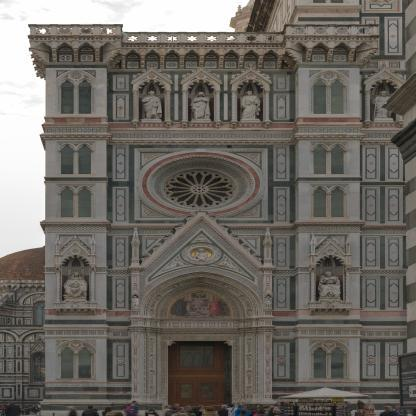Balcony: (28, 24, 380, 43)
Building Outline: (27, 0, 405, 415)
Cornice: (139, 211, 264, 269), (179, 64, 223, 90), (363, 63, 406, 89), (130, 64, 173, 90), (229, 64, 272, 90), (59, 235, 91, 262), (315, 239, 346, 262), (309, 70, 349, 85), (56, 70, 96, 85), (310, 340, 348, 353), (57, 340, 95, 353), (58, 185, 94, 192), (311, 143, 347, 150), (311, 185, 347, 192), (58, 143, 94, 150)
Deco: (140, 217, 264, 305), (135, 148, 267, 220), (168, 291, 231, 317), (372, 91, 397, 122), (317, 270, 342, 300), (308, 299, 353, 315), (53, 299, 97, 315), (62, 272, 88, 299), (189, 92, 212, 122), (140, 91, 162, 122), (239, 91, 261, 122), (131, 121, 173, 128), (180, 121, 222, 128), (230, 121, 272, 128), (364, 121, 405, 128), (168, 375, 224, 378), (131, 296, 140, 309), (264, 296, 273, 309), (117, 358, 124, 364), (390, 358, 397, 363), (279, 358, 286, 363), (368, 358, 375, 363)
Door: (167, 340, 232, 416), (177, 382, 218, 416)
Facade: (45, 62, 405, 415)
Floor: (45, 234, 405, 336), (45, 138, 406, 234)
Floor Slab: (45, 229, 406, 234), (45, 133, 406, 138), (45, 48, 406, 53), (45, 332, 406, 336)
Ground Floor: (45, 336, 405, 415)
Molding: (28, 37, 378, 81), (40, 125, 415, 140), (160, 336, 241, 395), (41, 223, 406, 234), (44, 330, 407, 337), (128, 326, 276, 335)
Pillar: (37, 65, 113, 415), (293, 65, 367, 415), (260, 227, 277, 401), (127, 227, 144, 401), (308, 234, 318, 302), (344, 235, 353, 302), (54, 234, 62, 302), (89, 235, 97, 302), (398, 89, 405, 121), (165, 89, 172, 121), (215, 89, 222, 121), (364, 89, 371, 121), (264, 89, 271, 121), (230, 89, 237, 121), (181, 90, 188, 121), (132, 89, 138, 121), (326, 149, 332, 173), (326, 192, 332, 216), (73, 149, 79, 173), (327, 85, 332, 113), (74, 85, 79, 113), (326, 353, 331, 378), (73, 353, 78, 378), (73, 192, 78, 216), (310, 85, 314, 113), (57, 192, 61, 217), (310, 353, 314, 378), (57, 353, 61, 378), (344, 192, 348, 217), (310, 192, 314, 217), (91, 192, 95, 216), (344, 150, 348, 174), (310, 150, 314, 174), (91, 150, 95, 174), (57, 150, 61, 174), (344, 84, 347, 113), (91, 84, 94, 113), (58, 85, 61, 113), (344, 353, 347, 378), (91, 353, 94, 378)
Top Floor: (45, 53, 406, 138)
Window: (316, 255, 345, 301), (62, 255, 89, 301), (137, 80, 166, 122), (236, 80, 265, 122), (370, 80, 398, 122), (187, 80, 215, 122), (179, 341, 214, 367), (313, 80, 326, 114), (78, 80, 91, 114), (61, 80, 74, 114), (331, 80, 343, 114), (78, 187, 91, 217), (313, 348, 326, 378), (331, 348, 344, 378), (78, 348, 91, 378), (331, 145, 344, 174), (331, 187, 344, 216), (314, 145, 327, 174), (78, 145, 91, 174), (314, 187, 327, 216), (61, 145, 74, 174), (61, 187, 73, 217), (61, 348, 73, 378)
dont: (381, 0, 416, 353), (272, 387, 376, 416), (379, 351, 415, 416), (162, 403, 277, 416), (123, 401, 140, 416), (102, 406, 124, 416), (81, 405, 99, 416), (65, 406, 78, 416), (144, 408, 160, 416)
